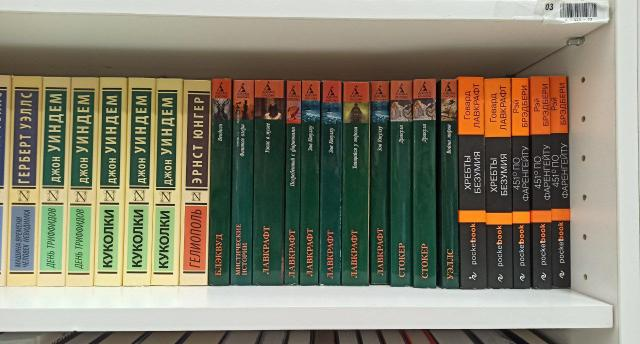book-s-spine: (7, 76, 43, 286), (37, 77, 71, 286), (66, 78, 99, 286), (123, 78, 156, 286), (151, 78, 183, 285), (94, 77, 125, 286), (253, 80, 284, 286), (180, 80, 211, 285), (459, 77, 487, 288), (485, 78, 512, 288), (342, 82, 369, 286), (231, 80, 254, 286), (530, 77, 552, 289), (414, 79, 436, 288), (209, 79, 231, 286), (391, 81, 412, 287), (550, 76, 570, 288), (321, 81, 341, 286), (301, 81, 320, 286), (512, 78, 530, 288), (441, 80, 458, 289), (372, 81, 389, 284), (285, 81, 301, 286)
